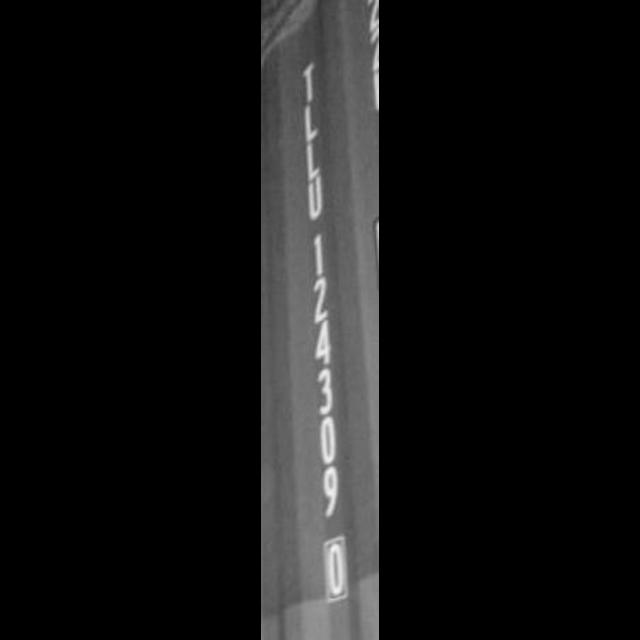0: (312, 529, 354, 605), (308, 413, 344, 467)
1: (305, 228, 335, 278)
2: (304, 276, 336, 320)
3: (308, 362, 346, 418)
4: (304, 315, 348, 375)
9: (314, 462, 348, 520)
l: (289, 102, 337, 142), (294, 139, 330, 179)
t: (289, 54, 327, 104)
u: (297, 172, 335, 220)
